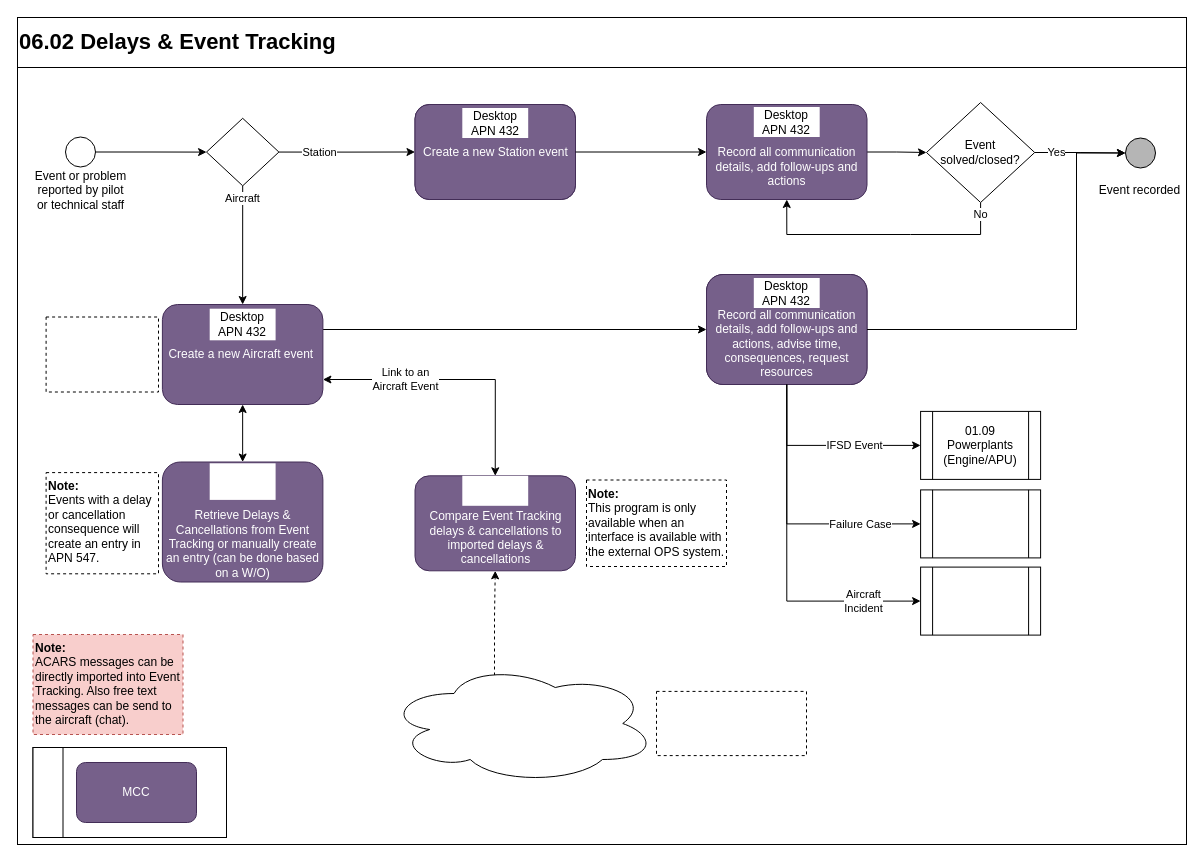
The diagram is 1204 pixels wide and 862 high, and some of its shapes have lost their labels. Each missing label, with the centre of its shape:
06.04 Recurrent Defects: point (980, 523)
06.05 Aircraft Incidents: point (980, 600)
Desktop APN 547: point (242, 481)
Desktop APN 713: point (495, 490)
Event type: point (242, 151)
Flight Ops Interface TRANSFER DELAYS AND CANCELLATIONS: point (521, 723)
LEGEND: point (47, 792)
Note: All manual entries will create an event in APN 432.: point (101, 354)
Note: Parameter 1426 allows automatic creation of an event in Event Tracking.: point (731, 723)
